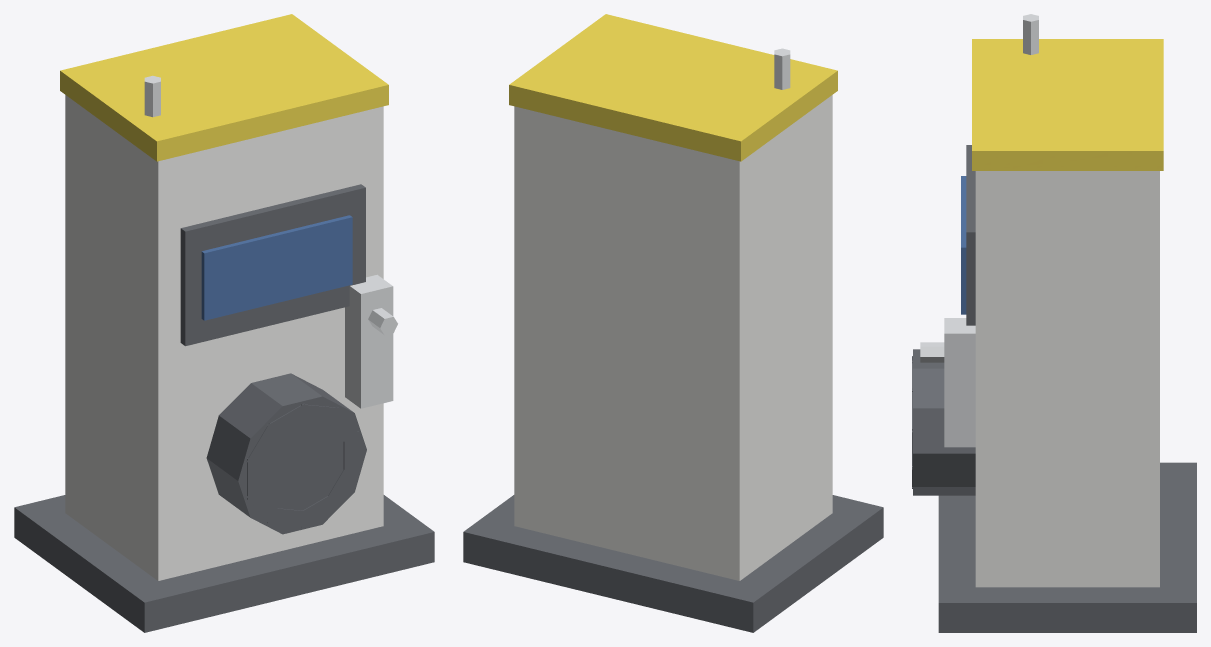
The model's file is marina-and-yacht-club-marina-and-yacht-club-pump-out-s-6de92469__38296.glb.
The picture shows the model from 3 angles, left to right: view 1: azimuth 30°, elevation 25°; view 2: azimuth 150°, elevation 25°; view 3: azimuth 270°, elevation 25°; orthographic projection.
Parts seen in each view (by area): view 1: marina-and-yacht-club-pump-out-station; view 2: marina-and-yacht-club-pump-out-station; view 3: marina-and-yacht-club-pump-out-station.
Part boxes in pixels (bbox=[...]): marina-and-yacht-club-pump-out-station: bbox=[14, 14, 434, 632]; marina-and-yacht-club-pump-out-station: bbox=[463, 14, 883, 632]; marina-and-yacht-club-pump-out-station: bbox=[912, 14, 1196, 632].
Size of the model in its own units: 0.9 by 1.5 by 0.7726.
